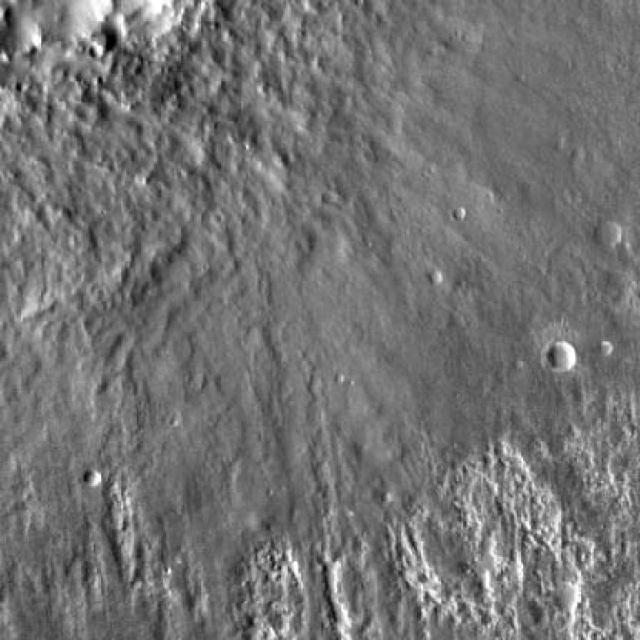crater: (545, 340, 577, 372), (596, 221, 626, 250), (84, 471, 99, 487), (595, 341, 611, 356), (427, 266, 442, 282)
